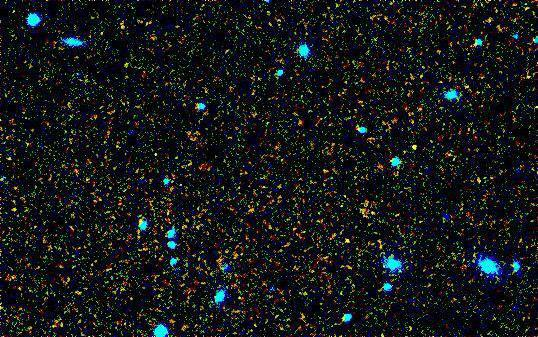star: (400, 131, 430, 161)
